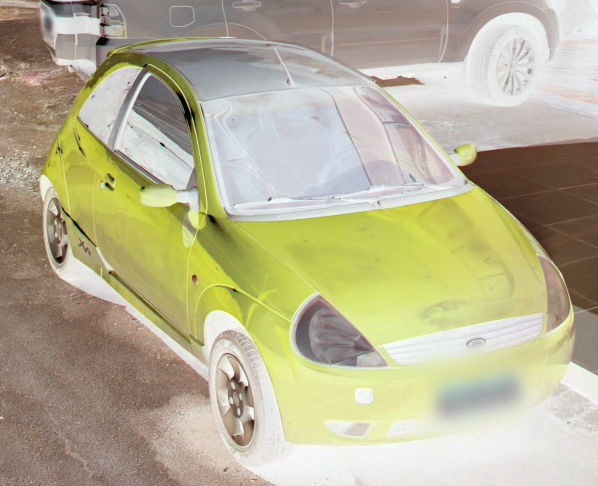car: (41, 39, 575, 470)
